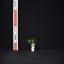leaf: (32, 38, 36, 42), (28, 39, 33, 42), (33, 40, 38, 43), (28, 41, 33, 43), (29, 43, 32, 44), (33, 43, 36, 44), (34, 44, 36, 44)
